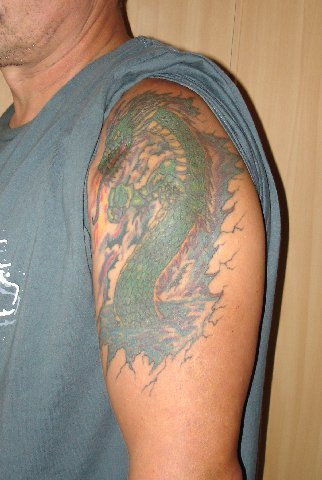tatu6_drakon: (77, 76, 253, 403)
